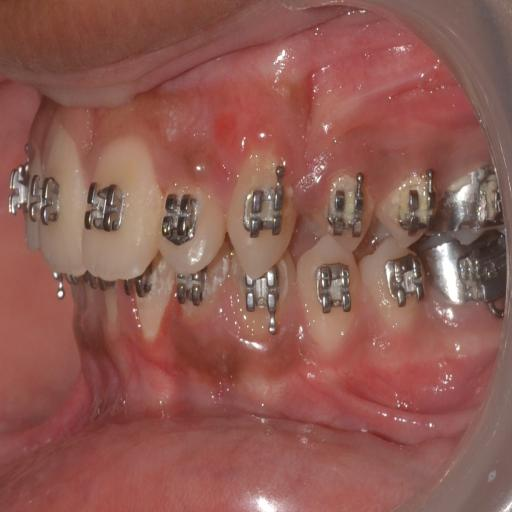correct_brace: (297, 231, 361, 355), (316, 159, 378, 257), (81, 170, 123, 248), (30, 160, 66, 238), (160, 182, 200, 250), (315, 254, 355, 322), (244, 176, 284, 242), (382, 248, 420, 310)
incorrect_brace: (154, 176, 224, 280), (327, 174, 366, 238)
